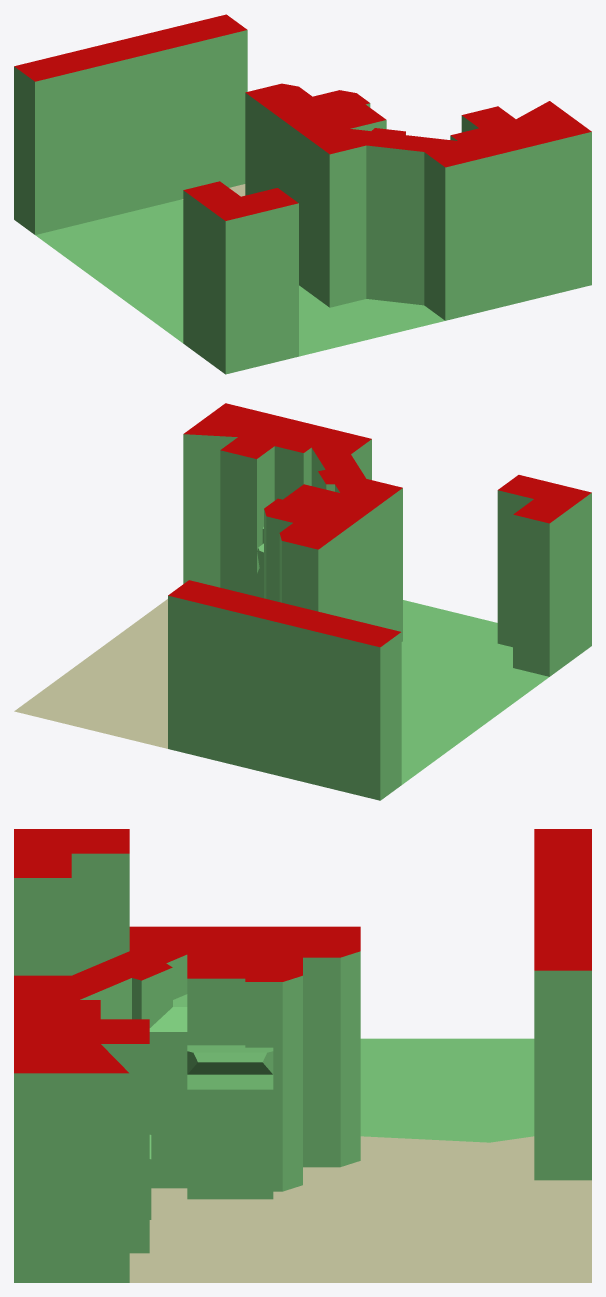
Rendered from x_oo_ground_39_1_rmstrd.fbx.
The picture shows the model from 3 angles, top to bottom: view 1: azimuth 30°, elevation 25°; view 2: azimuth 150°, elevation 25°; view 3: azimuth 270°, elevation 25°; orthographic projection. The views are drawn at different scales.
Parts seen in each view (by area): view 1: x_oo_ground_39_1_rmstrd1; view 2: x_oo_ground_39_1_rmstrd1; view 3: x_oo_ground_39_1_rmstrd1.
Part boxes in pixels (box(x1,y1,x2,y2)): x_oo_ground_39_1_rmstrd1: box(14, 14, 591, 374); x_oo_ground_39_1_rmstrd1: box(14, 403, 591, 800); x_oo_ground_39_1_rmstrd1: box(14, 829, 591, 1282).
Size of the model in its own units: 10 by 4 by 10.
